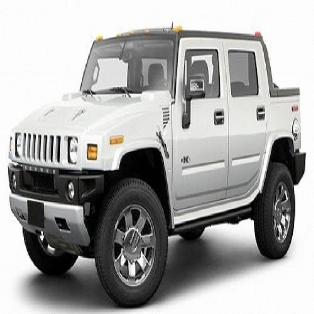Auto: (5, 23, 306, 312)
